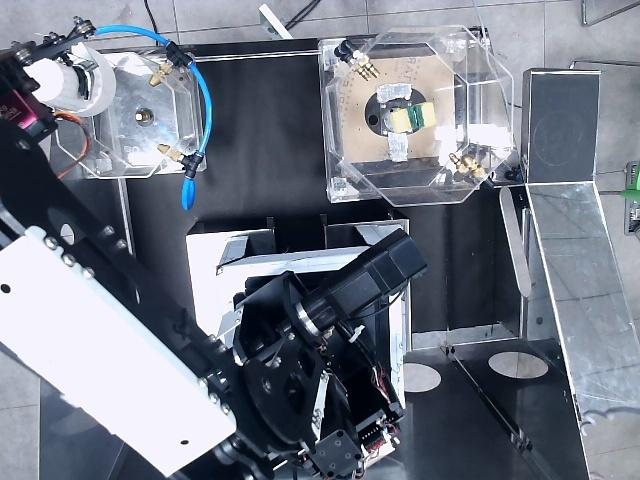cup: (25, 43, 115, 116)
